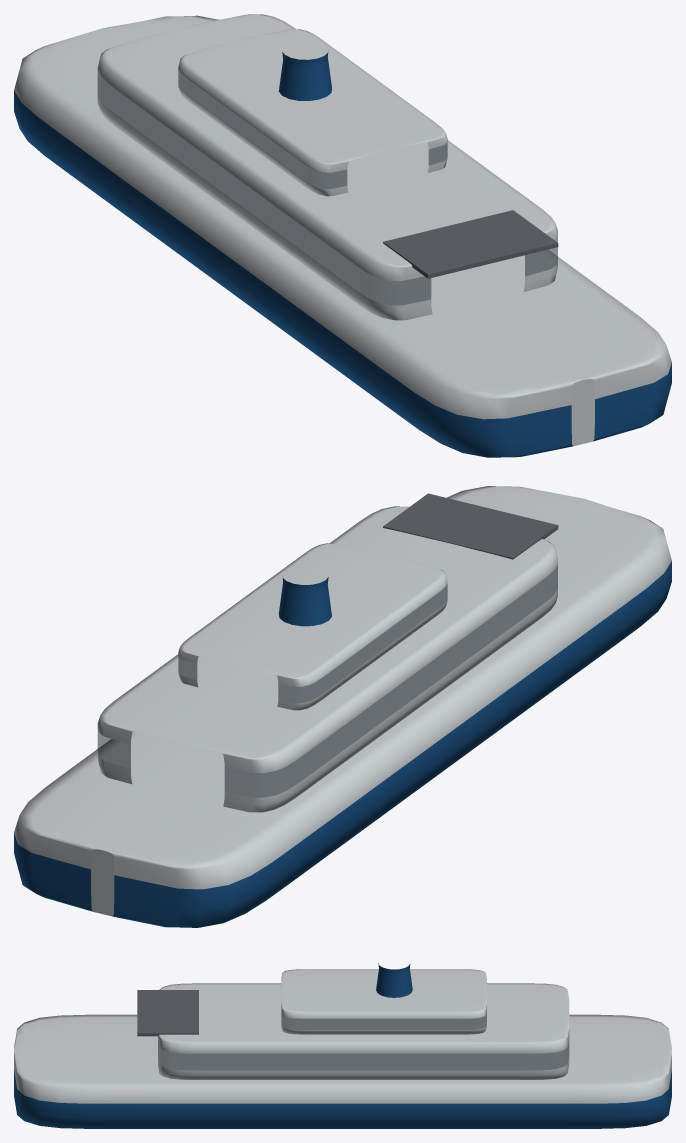
File: desktop.glb
3 views of the same model, one above another, from view 1: azimuth 30°, elevation 25°; view 2: azimuth 150°, elevation 25°; view 3: azimuth 270°, elevation 25° (orthographic). The views are drawn at different scales.
Visible parts, largest first — view 1: transit.ferry; view 2: transit.ferry; view 3: transit.ferry.
Boxes of the visible parts, x1,y1,x2,y2 form: transit.ferry: (14,14,671,457); transit.ferry: (14,486,671,927); transit.ferry: (14,963,671,1128).
Bounding box in the file's own units: 9 × 7 × 32.
